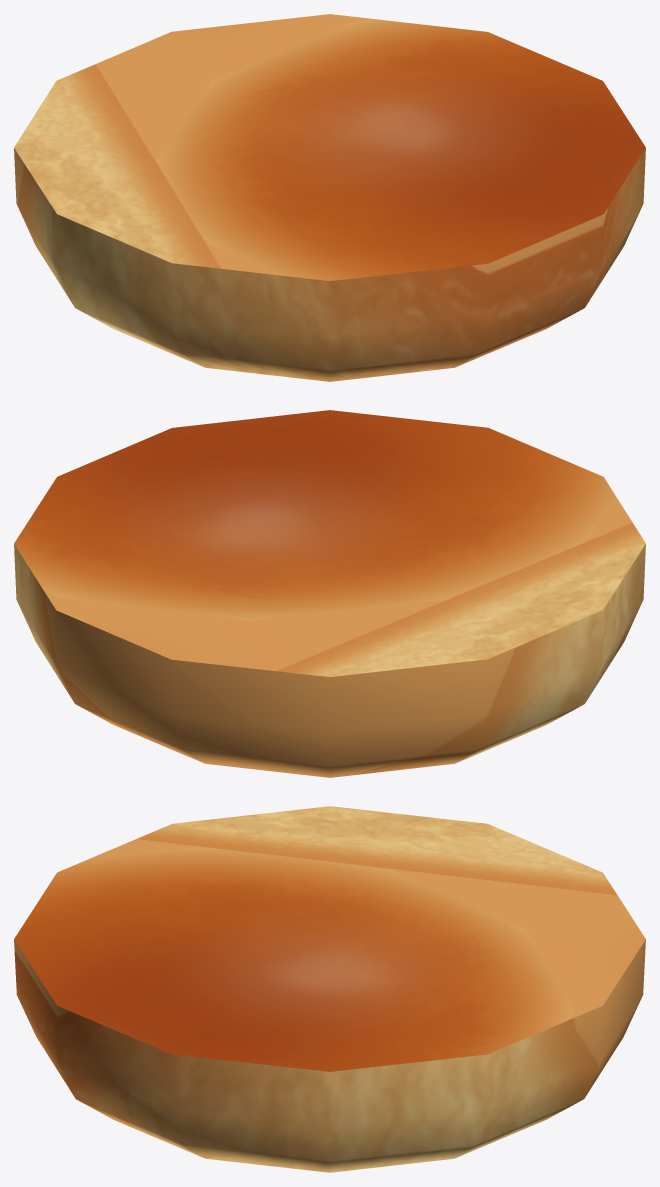
The model's file is English_Muffin_Bottom.fbx.
The picture shows the model from 3 angles, top to bottom: view 1: azimuth 30°, elevation 25°; view 2: azimuth 150°, elevation 25°; view 3: azimuth 270°, elevation 25°; orthographic projection.
Parts seen in each view (by area): view 1: English_Muffin_Bottom; view 2: English_Muffin_Bottom; view 3: English_Muffin_Bottom.
Part boxes in pixels (bbox=[...]): English_Muffin_Bottom: bbox=[14, 14, 645, 381]; English_Muffin_Bottom: bbox=[14, 410, 645, 777]; English_Muffin_Bottom: bbox=[14, 806, 645, 1172].
Bounding box in the file's own units: 33.74 × 7.62 × 33.92.
